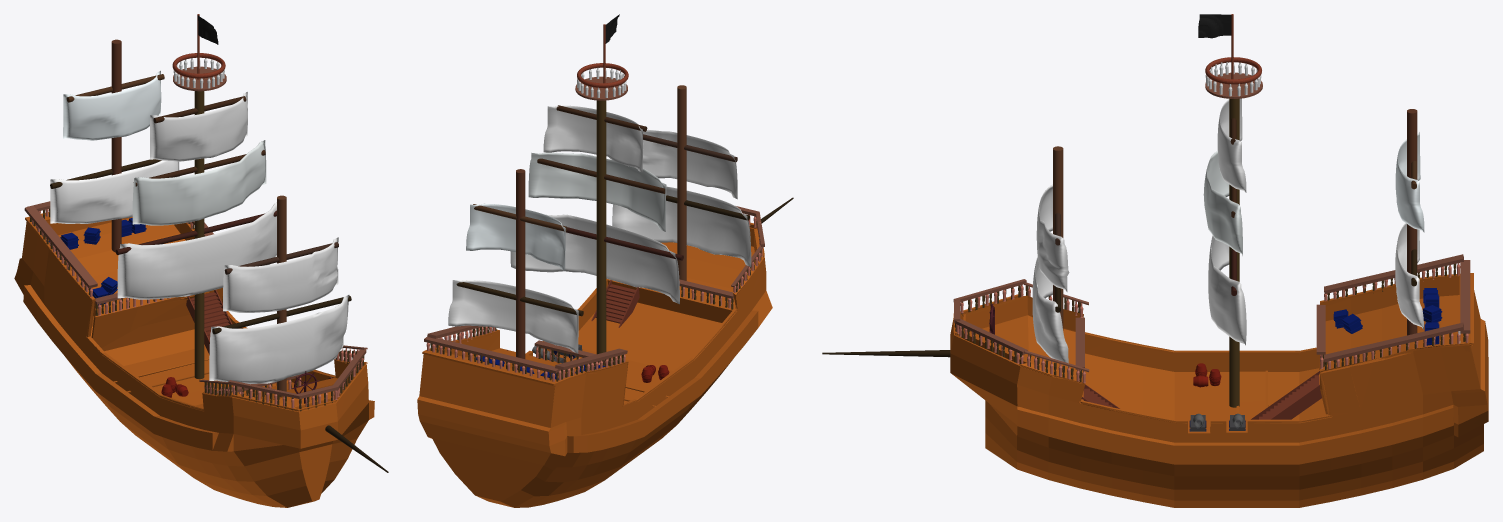
The model's file is NEW_SHEP_02.fbx.
3 renders of one model, left to right at view 1: azimuth 30°, elevation 25°; view 2: azimuth 150°, elevation 25°; view 3: azimuth 270°, elevation 25°, orthographic. The views are drawn at different scales.
Parts seen in each view (by area): view 1: body, Plane.002, Plane.005, Plane.001, Plane.006, Plane, Plane.003, Plane.004, column_02, column_01, Cube.003, column_03 (+9 smaller); view 2: body, Plane.002, Plane.001, Plane.004, Plane.005, Plane, Plane.003, Plane.006, column_02, column_03, column_01, Cube.001 (+10 smaller); view 3: body, Plane.002, Plane.001, Plane.005, Plane.006, Plane, Plane.004, Plane.003, column_02, column_01, Cube.002, column_03 (+4 smaller).
Boxes of the visible parts, left/top/right/bottom form: body: left=14, top=212, right=374, bottom=507; Plane.002: left=117, top=202, right=276, bottom=299; Plane.005: left=209, top=295, right=349, bottom=384; Plane.001: left=132, top=140, right=266, bottom=225; Plane.006: left=223, top=237, right=338, bottom=312; Plane: left=150, top=92, right=247, bottom=161; Plane.003: left=63, top=70, right=161, bottom=140; Plane.004: left=50, top=160, right=179, bottom=223; column_02: left=194, top=91, right=204, bottom=379; column_01: left=111, top=39, right=121, bottom=252; Cube.003: left=24, top=205, right=97, bottom=288; column_03: left=277, top=195, right=286, bottom=396; body: left=417, top=222, right=772, bottom=507; Plane.002: left=510, top=214, right=679, bottom=304; Plane.001: left=528, top=152, right=666, bottom=231; Plane.004: left=448, top=280, right=578, bottom=353; Plane.005: left=612, top=186, right=751, bottom=266; Plane: left=543, top=105, right=643, bottom=172; Plane.003: left=466, top=203, right=565, bottom=270; Plane.006: left=642, top=129, right=737, bottom=199; column_02: left=596, top=100, right=606, bottom=365; column_03: left=677, top=85, right=686, bottom=280; column_01: left=516, top=169, right=525, bottom=369; Cube.001: left=424, top=337, right=560, bottom=373; body: left=950, top=273, right=1488, bottom=507; Plane.002: left=1208, top=235, right=1246, bottom=345; Plane.001: left=1203, top=150, right=1242, bottom=255; Plane.005: left=1032, top=257, right=1068, bottom=366; Plane.006: left=1036, top=184, right=1069, bottom=291; Plane: left=1217, top=98, right=1246, bottom=192; Plane.004: left=1395, top=223, right=1423, bottom=329; Plane.003: left=1395, top=132, right=1424, bottom=232; column_02: left=1229, top=98, right=1239, bottom=407; column_01: left=1407, top=109, right=1417, bottom=335; Cube.002: left=1324, top=322, right=1463, bottom=362; column_03: left=1053, top=146, right=1063, bottom=330.
Bounding box in the file's own units: 1266 × 3217 × 4001.
